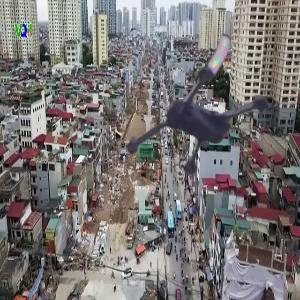drone: (115, 14, 299, 198)
